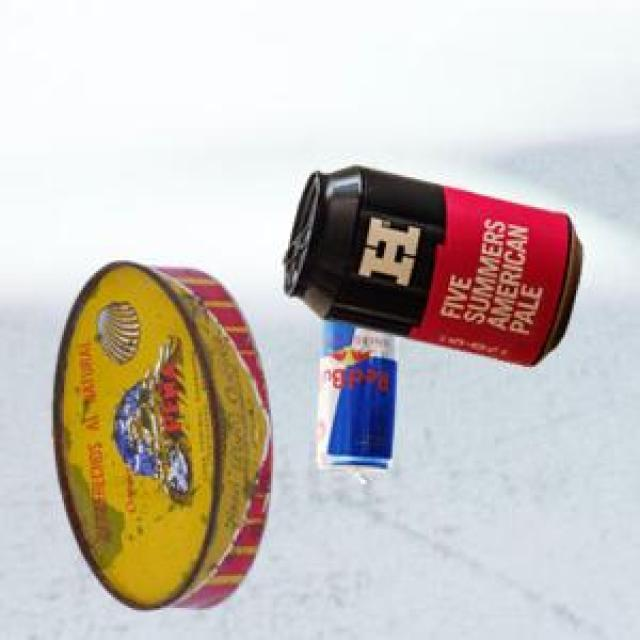Can: (50, 259, 268, 607), (281, 163, 579, 364), (315, 315, 396, 483)
